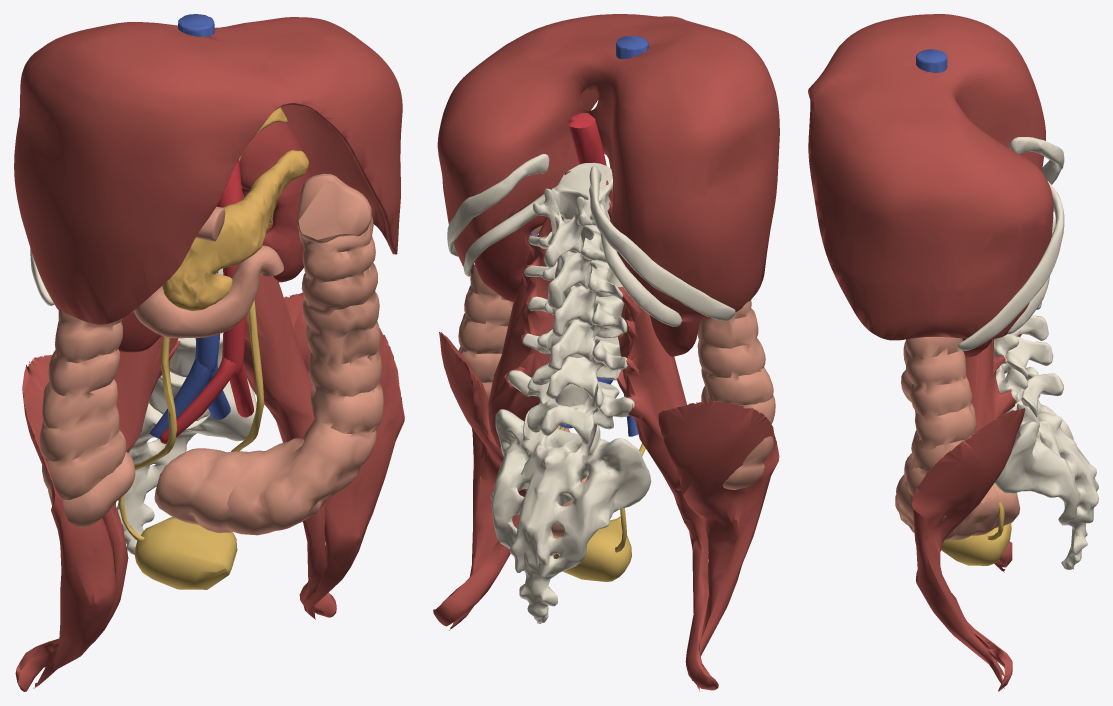
File: retroperitoneum.glb
3 views of the same model, side by side, from view 1: azimuth 30°, elevation 25°; view 2: azimuth 150°, elevation 25°; view 3: azimuth 270°, elevation 25° (orthographic). The views are drawn at different scales.
Visible parts, largest first — view 1: диафрагма, нисходящая ободочная кишка, восходящая ободочная кишка, правая подвздошная мышца, левая большая поясничная мышца, левая подвздошная мышца, поджелудочная железа, правая большая поясничная мышца, двенадцатиперстная кишка, мочевой пузырь, крестец, левая почка (+10 smaller); view 2: диафрагма, крестец, правая подвздошная мышца, правая большая поясничная мышца, левая большая поясничная мышца, восходящая ободочная кишка, левая подвздошная мышца, L5, нисходящая ободочная кишка, Th12, 11-е ребро правое, L4 (+11 smaller); view 3: диафрагма, левая подвздошная мышца, нисходящая ободочная кишка, крестец, левая большая поясничная мышца, 11-е ребро левое, L5, мочевой пузырь, L4, 11-е ребро правое, нижняя полая вена, L3 (+1 smaller).
Part boxes in pixels (box(x1,y1,x2,y2)): диафрагма: box(14, 17, 402, 324); нисходящая ободочная кишка: box(154, 173, 383, 535); восходящая ободочная кишка: box(39, 309, 135, 527); правая подвздошная мышца: box(22, 355, 115, 688); левая большая поясничная мышца: box(242, 190, 336, 617); левая подвздошная мышца: box(284, 292, 404, 619); поджелудочная железа: box(162, 150, 308, 310); правая большая поясничная мышца: box(15, 335, 179, 691); двенадцатиперстная кишка: box(133, 206, 283, 338); мочевой пузырь: box(134, 517, 237, 589); крестец: box(117, 378, 256, 555); левая почка: box(239, 122, 311, 282); диафрагма: box(437, 14, 779, 321); крестец: box(490, 409, 651, 623); правая подвздошная мышца: box(658, 399, 779, 691); правая большая поясничная мышца: box(606, 180, 718, 690); левая большая поясничная мышца: box(433, 171, 570, 626); восходящая ободочная кишка: box(697, 300, 775, 489); левая подвздошная мышца: box(439, 332, 503, 630); L5: box(508, 370, 634, 444); нисходящая ободочная кишка: box(458, 225, 587, 537); Th12: box(533, 162, 612, 267); 11-е ребро правое: box(589, 166, 735, 321); L4: box(522, 329, 627, 399); диафрагма: box(808, 14, 1053, 340); левая подвздошная мышца: box(912, 408, 1025, 688); нисходящая ободочная кишка: box(895, 337, 1020, 541); крестец: box(994, 367, 1098, 569); левая большая поясничная мышца: box(940, 339, 1015, 691); 11-е ребро левое: box(957, 180, 1064, 350); L5: box(996, 363, 1063, 417); мочевой пузырь: box(941, 523, 1011, 565); L4: box(994, 334, 1053, 378); 11-е ребро правое: box(1009, 137, 1064, 184); нижняя полая вена: box(916, 49, 947, 72); L3: box(1011, 315, 1048, 340).
Bounding box in the file's own units: 0.2545 × 0.4586 × 0.2126.
